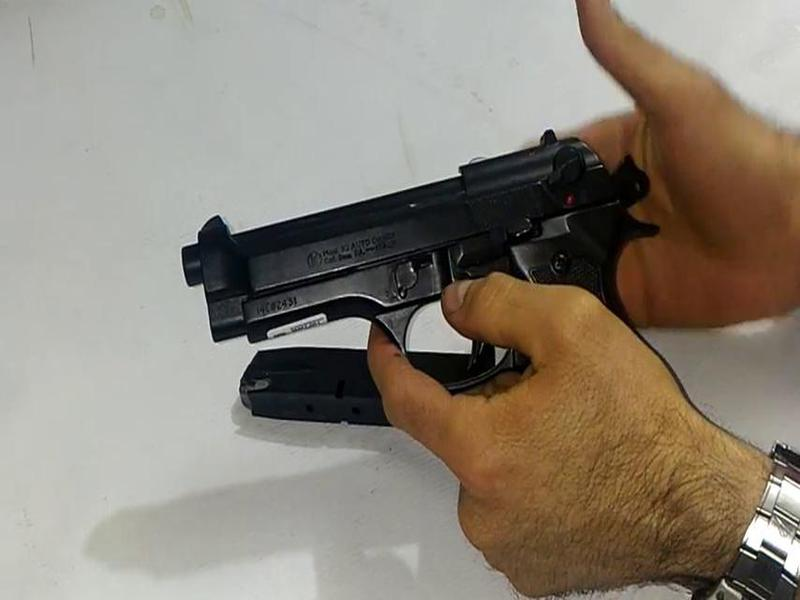Pistola: (151, 118, 676, 473)
